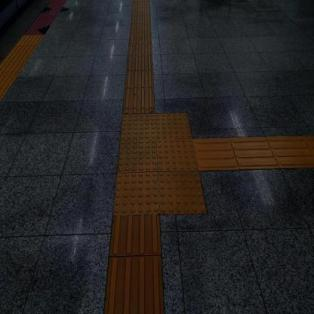Podoctatil: (82, 76, 240, 250), (0, 0, 66, 103), (105, 216, 162, 313), (124, 0, 155, 110), (203, 140, 314, 170)
